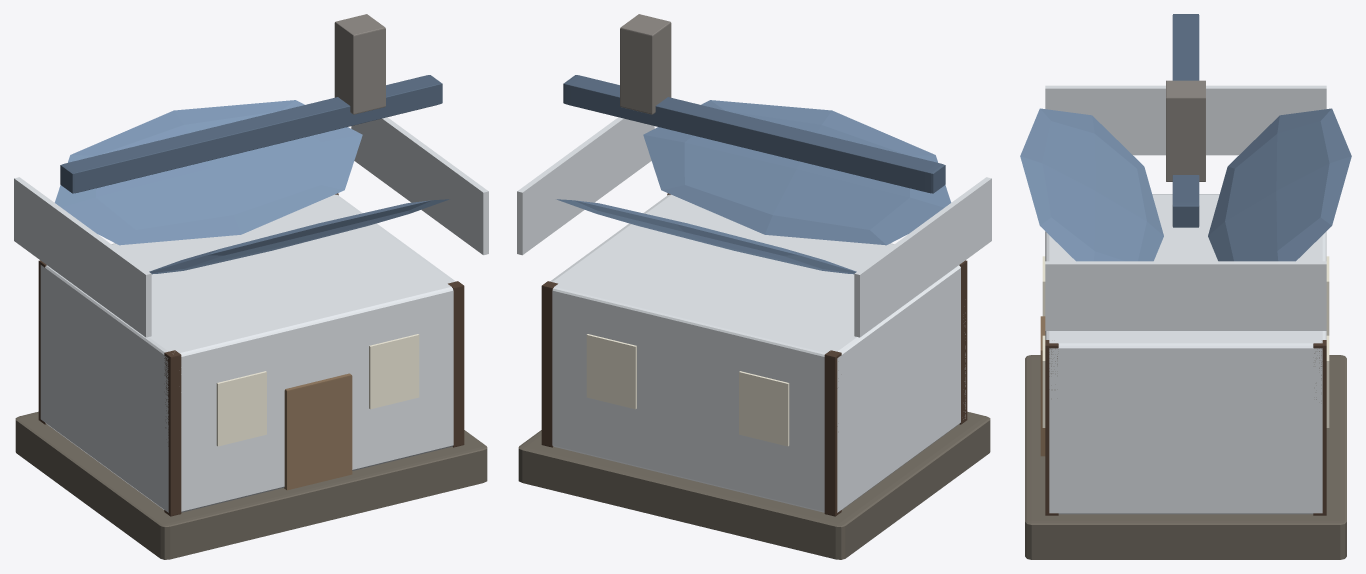
The model's file is kominka_blue.glb.
3 renders of one model, left to right at view 1: azimuth 30°, elevation 25°; view 2: azimuth 150°, elevation 25°; view 3: azimuth 270°, elevation 25°, orthographic. The views are drawn at different scales.
Visible parts, largest first — view 1: kominka_blue; view 2: kominka_blue; view 3: kominka_blue.
Part boxes in pixels (left/top/right/bottom): kominka_blue: left=14, top=14, right=488, bottom=559; kominka_blue: left=517, top=14, right=991, bottom=559; kominka_blue: left=1020, top=14, right=1351, bottom=559.
Bounding box in the file's own units: 3.4 × 3.65 × 2.47.
